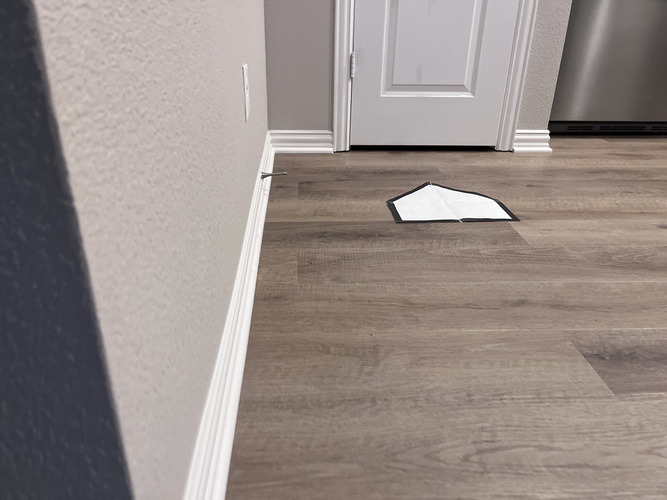homeplate: (385, 182, 518, 223)
